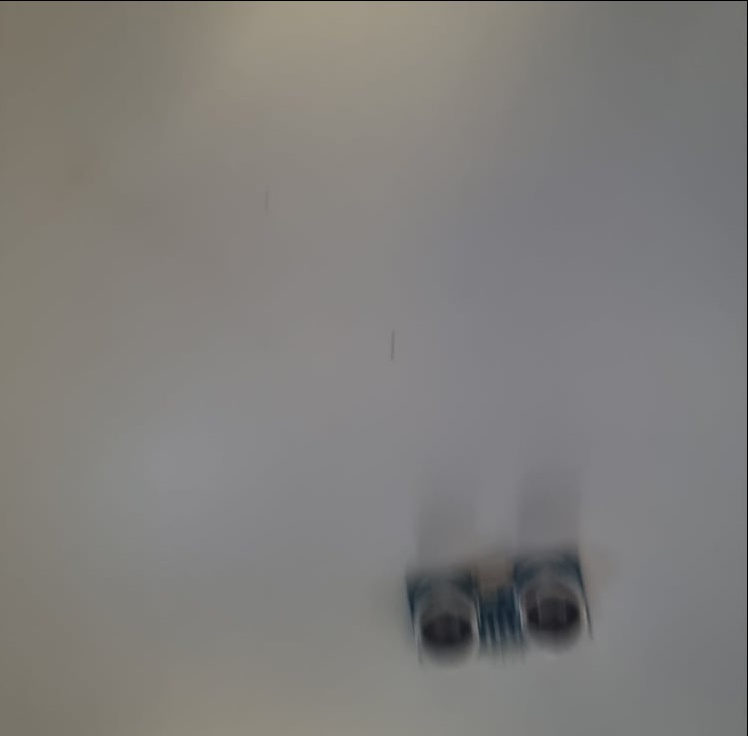SENSOR: (404, 556, 597, 676)
